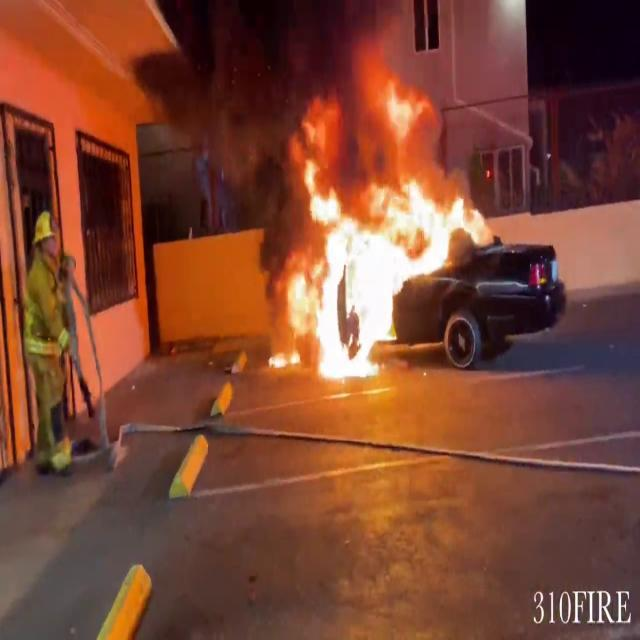Fire: (259, 51, 496, 377)
